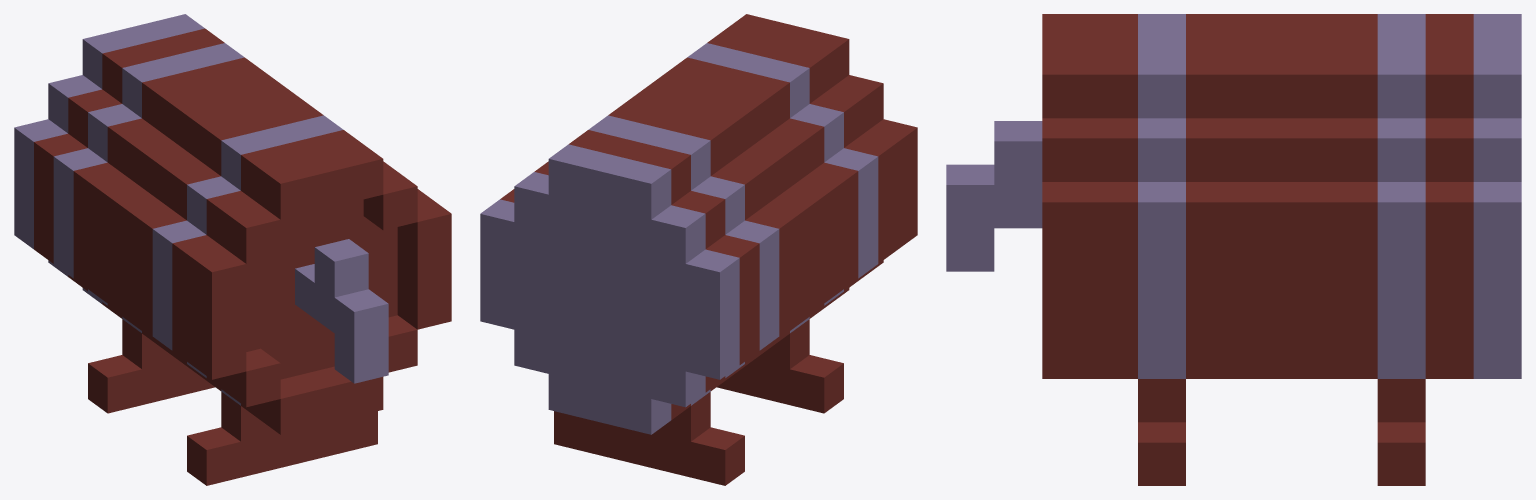
Rendered from beer_barrel_b.obj.
The picture shows the model from 3 angles, left to right: view 1: azimuth 30°, elevation 25°; view 2: azimuth 150°, elevation 25°; view 3: azimuth 270°, elevation 25°; orthographic projection. The views are drawn at different scales.
Bounding box in the file's own units: 0.7 × 0.9 × 1.2.
Materials: 1 (1 with a texture image).
